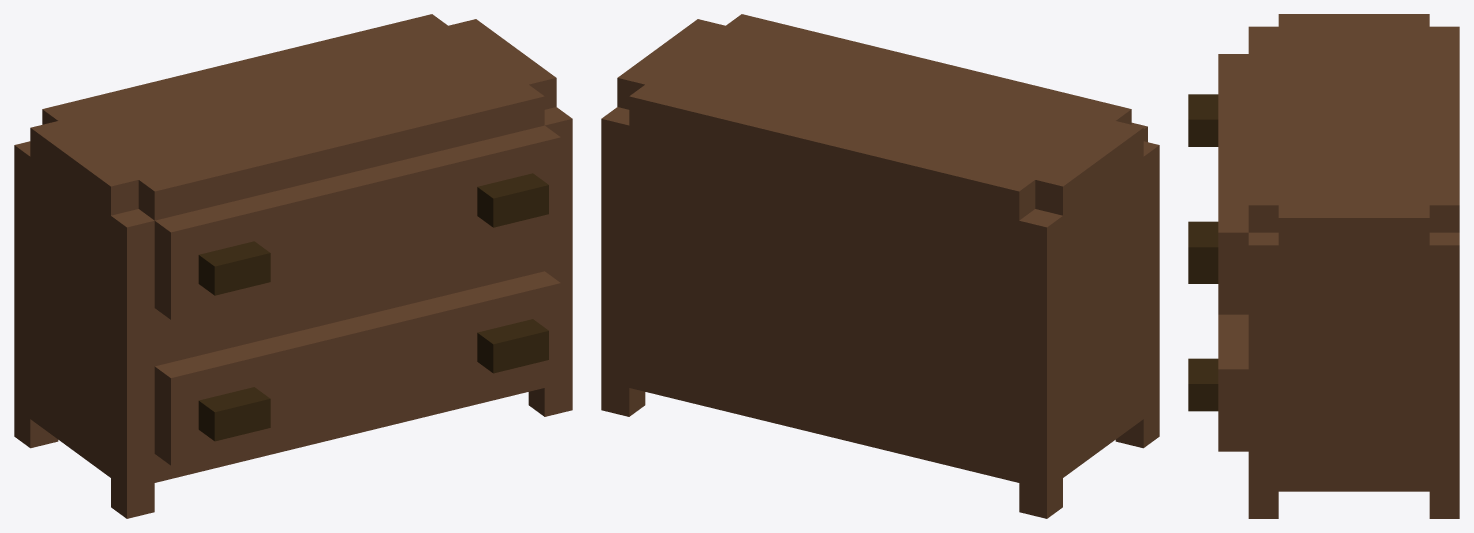
The model's file is Komoda2.dae.
3 renders of one model, left to right at view 1: azimuth 30°, elevation 25°; view 2: azimuth 150°, elevation 25°; view 3: azimuth 270°, elevation 25°, orthographic. The views are drawn at different scales.
Parts seen in each view (by area): view 1: Komoda; view 2: Komoda; view 3: Komoda.
Part boxes in pixels (left/top/right/bottom): Komoda: left=14, top=14, right=572, bottom=518; Komoda: left=601, top=14, right=1159, bottom=518; Komoda: left=1188, top=14, right=1459, bottom=518.
Size of the model in its own units: 16 by 11 by 9.
Materials: 1 (1 with a texture image).
